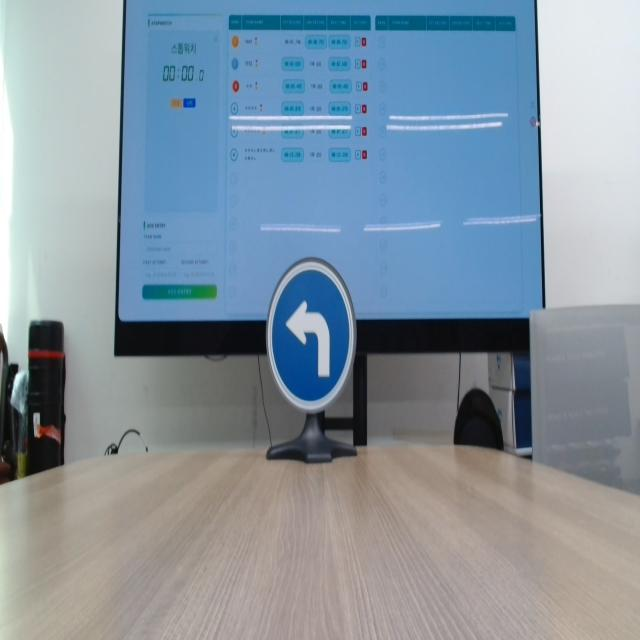left_direction: (260, 254, 360, 414)
